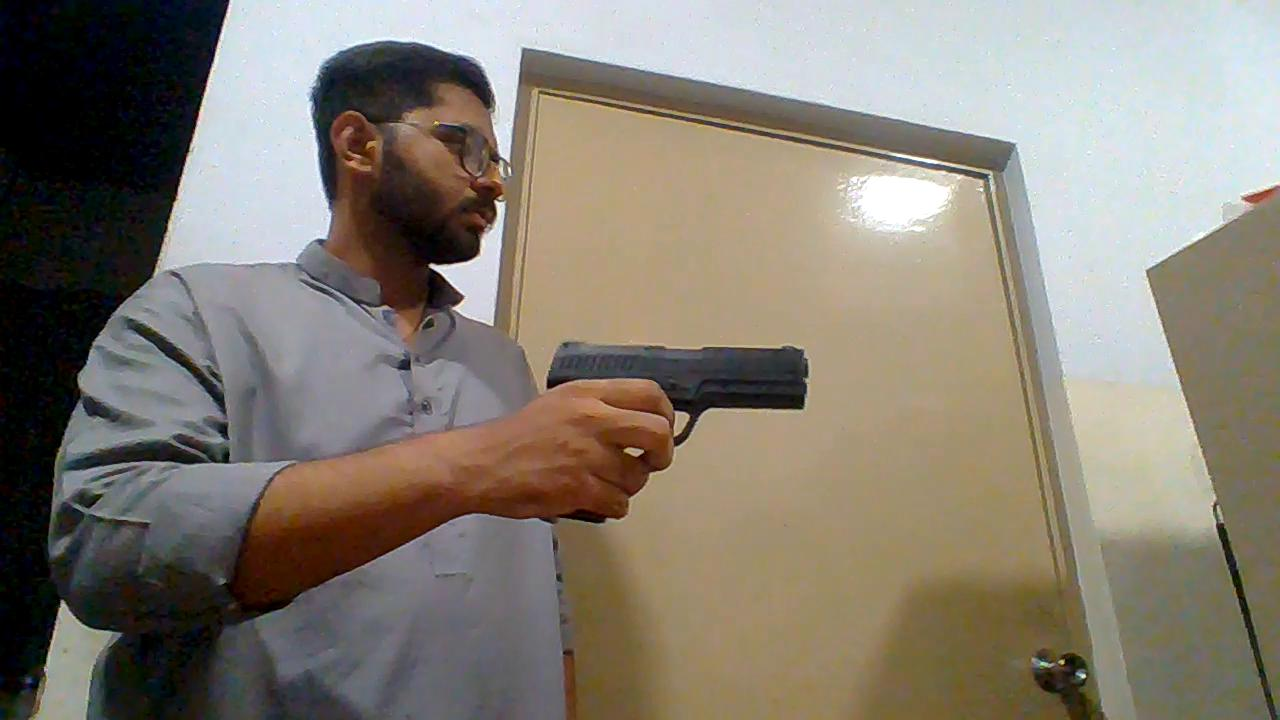criminal: (47, 37, 812, 720)
weapon: (545, 334, 813, 525)
